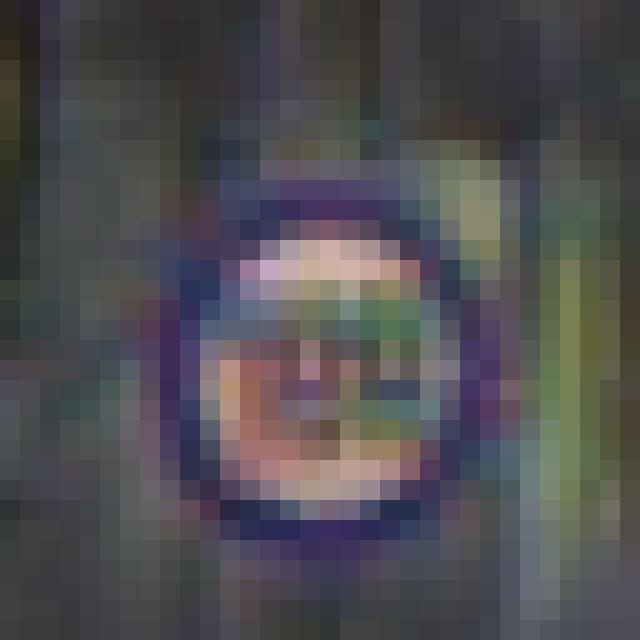SPEED LIMIT 100: (157, 195, 497, 548)
